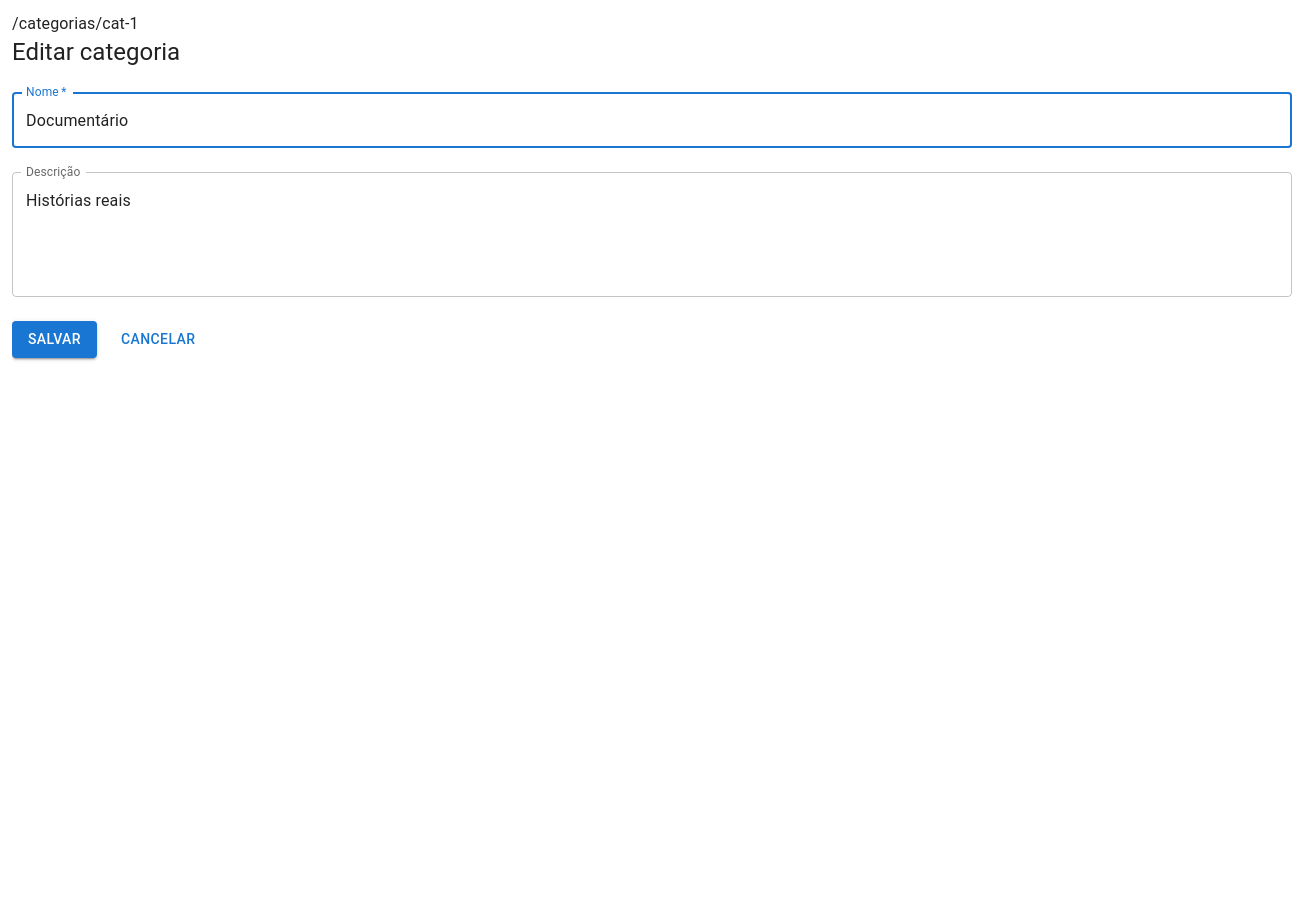
Test: CategoryEdit › givenNomeTrocado_whenSalva_thenMandaPutSoComNomeEDescricao
Replace the text in the field showing "Documentário" with "Documentários" at (652, 120), box [12, 92, 1292, 148]
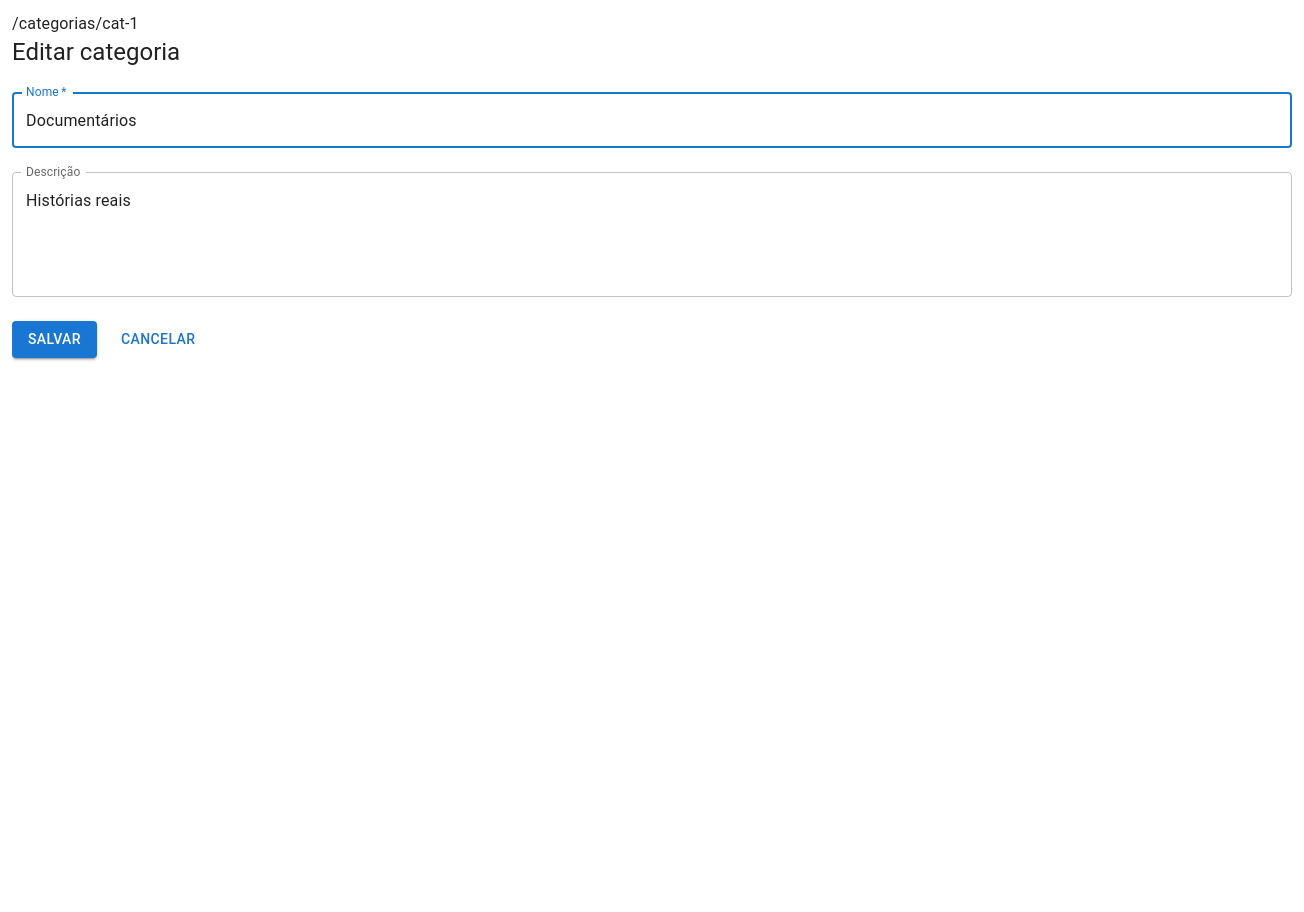
Click the button "Salvar" at (54, 339), box [12, 321, 97, 358]
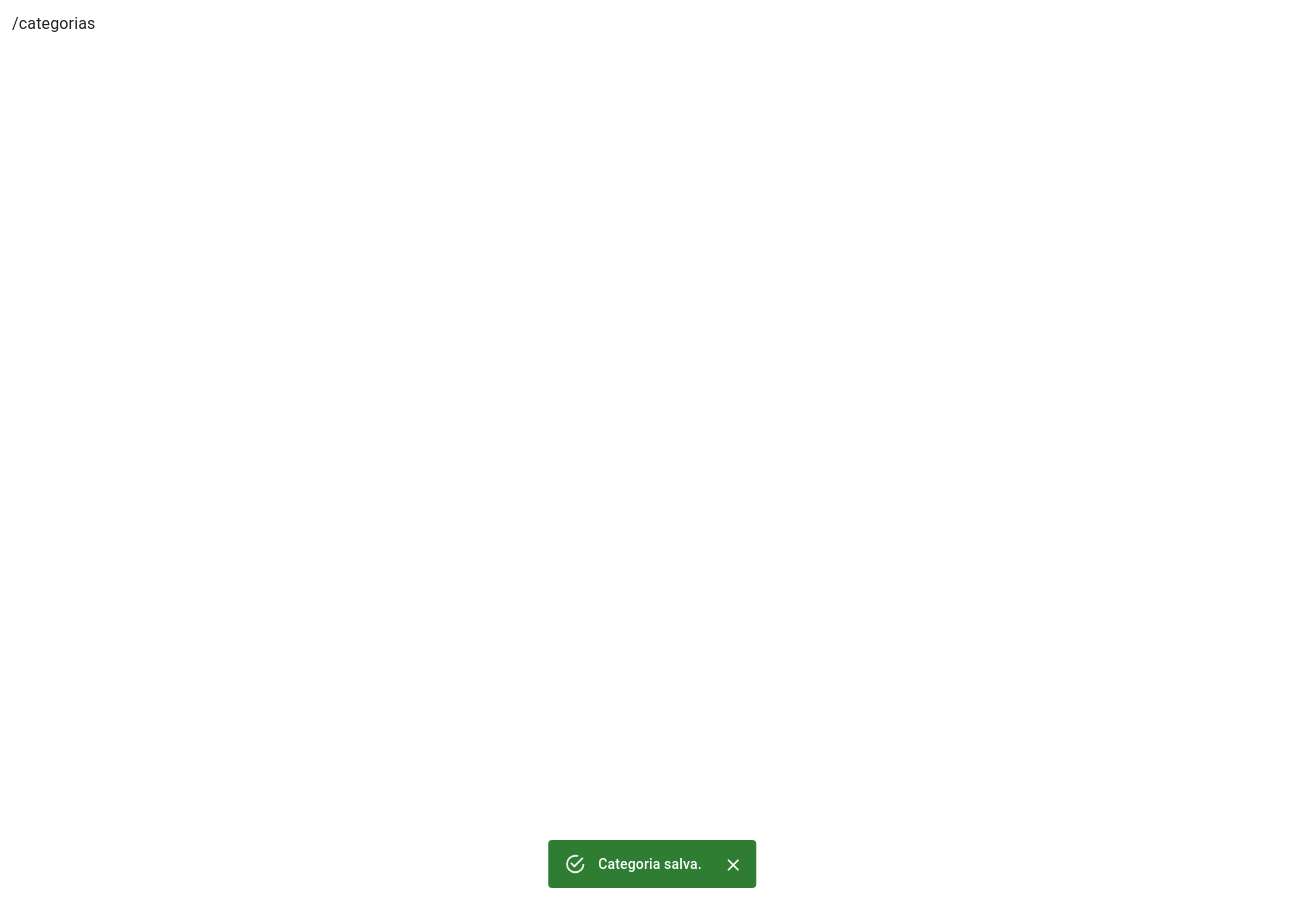
Expected: the text with test id "rota" reads "/categorias", [12, 14, 95, 33]
Result: the text "Categoria salva." is shown at [598, 856, 702, 872]
